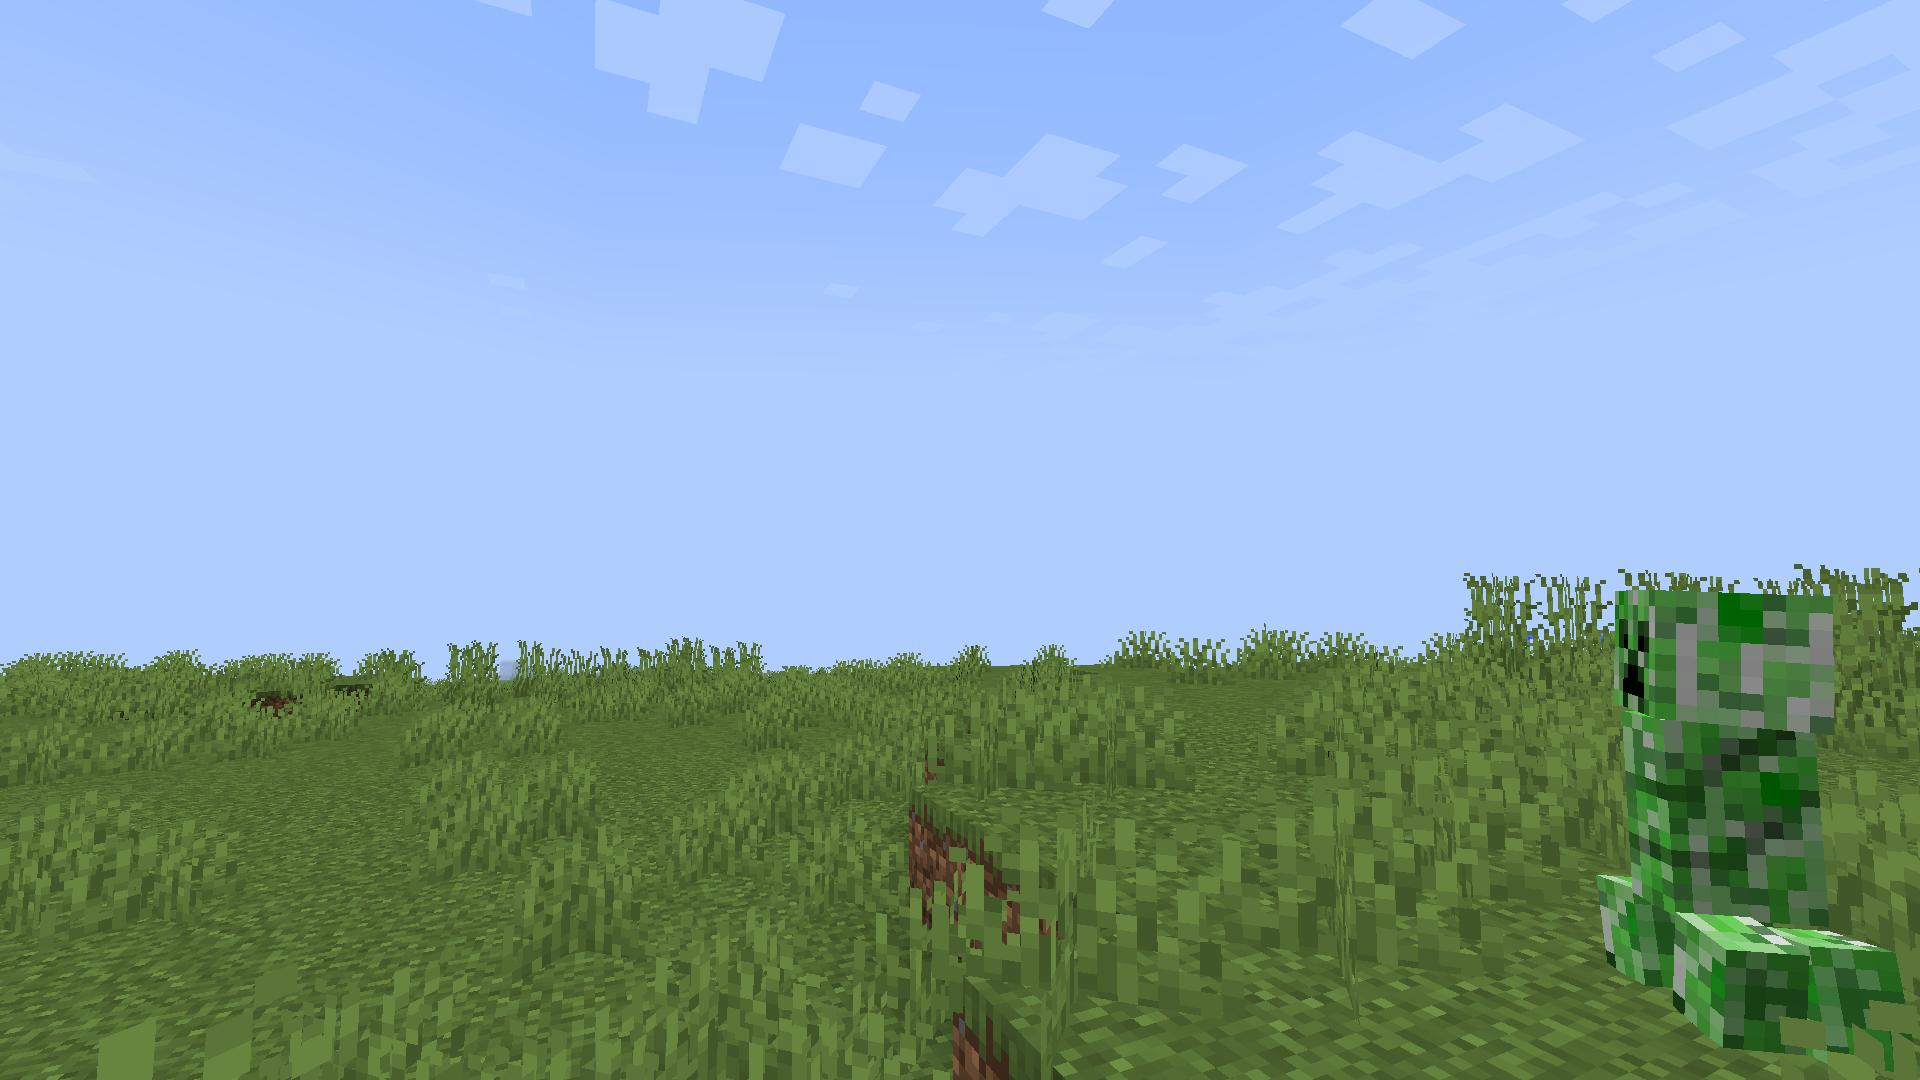creeper: (1582, 571, 1920, 1080)
